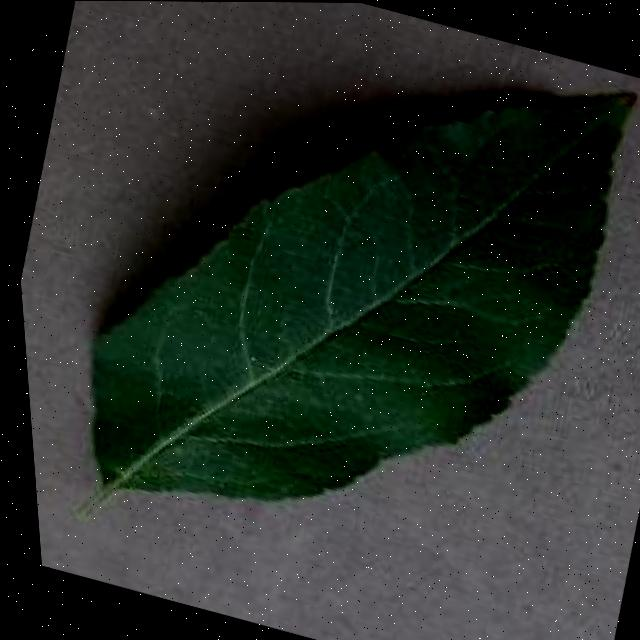healthy: (21, 0, 640, 629)
